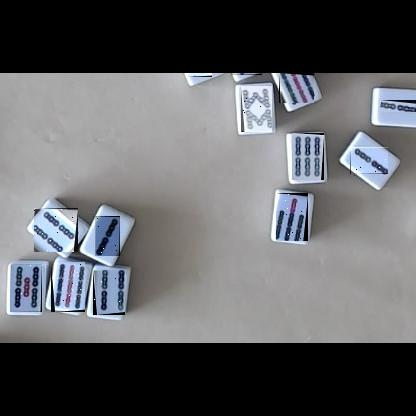2s: (350, 147, 388, 174), (95, 216, 120, 256), (380, 100, 416, 112), (187, 73, 212, 77)
4s: (34, 208, 78, 252), (93, 270, 125, 315)
5s: (10, 264, 42, 312)
6s: (292, 133, 324, 180)
7s: (276, 193, 308, 241)
8s: (241, 86, 272, 132)
9s: (51, 262, 85, 312), (279, 73, 314, 103), (229, 73, 262, 75)
